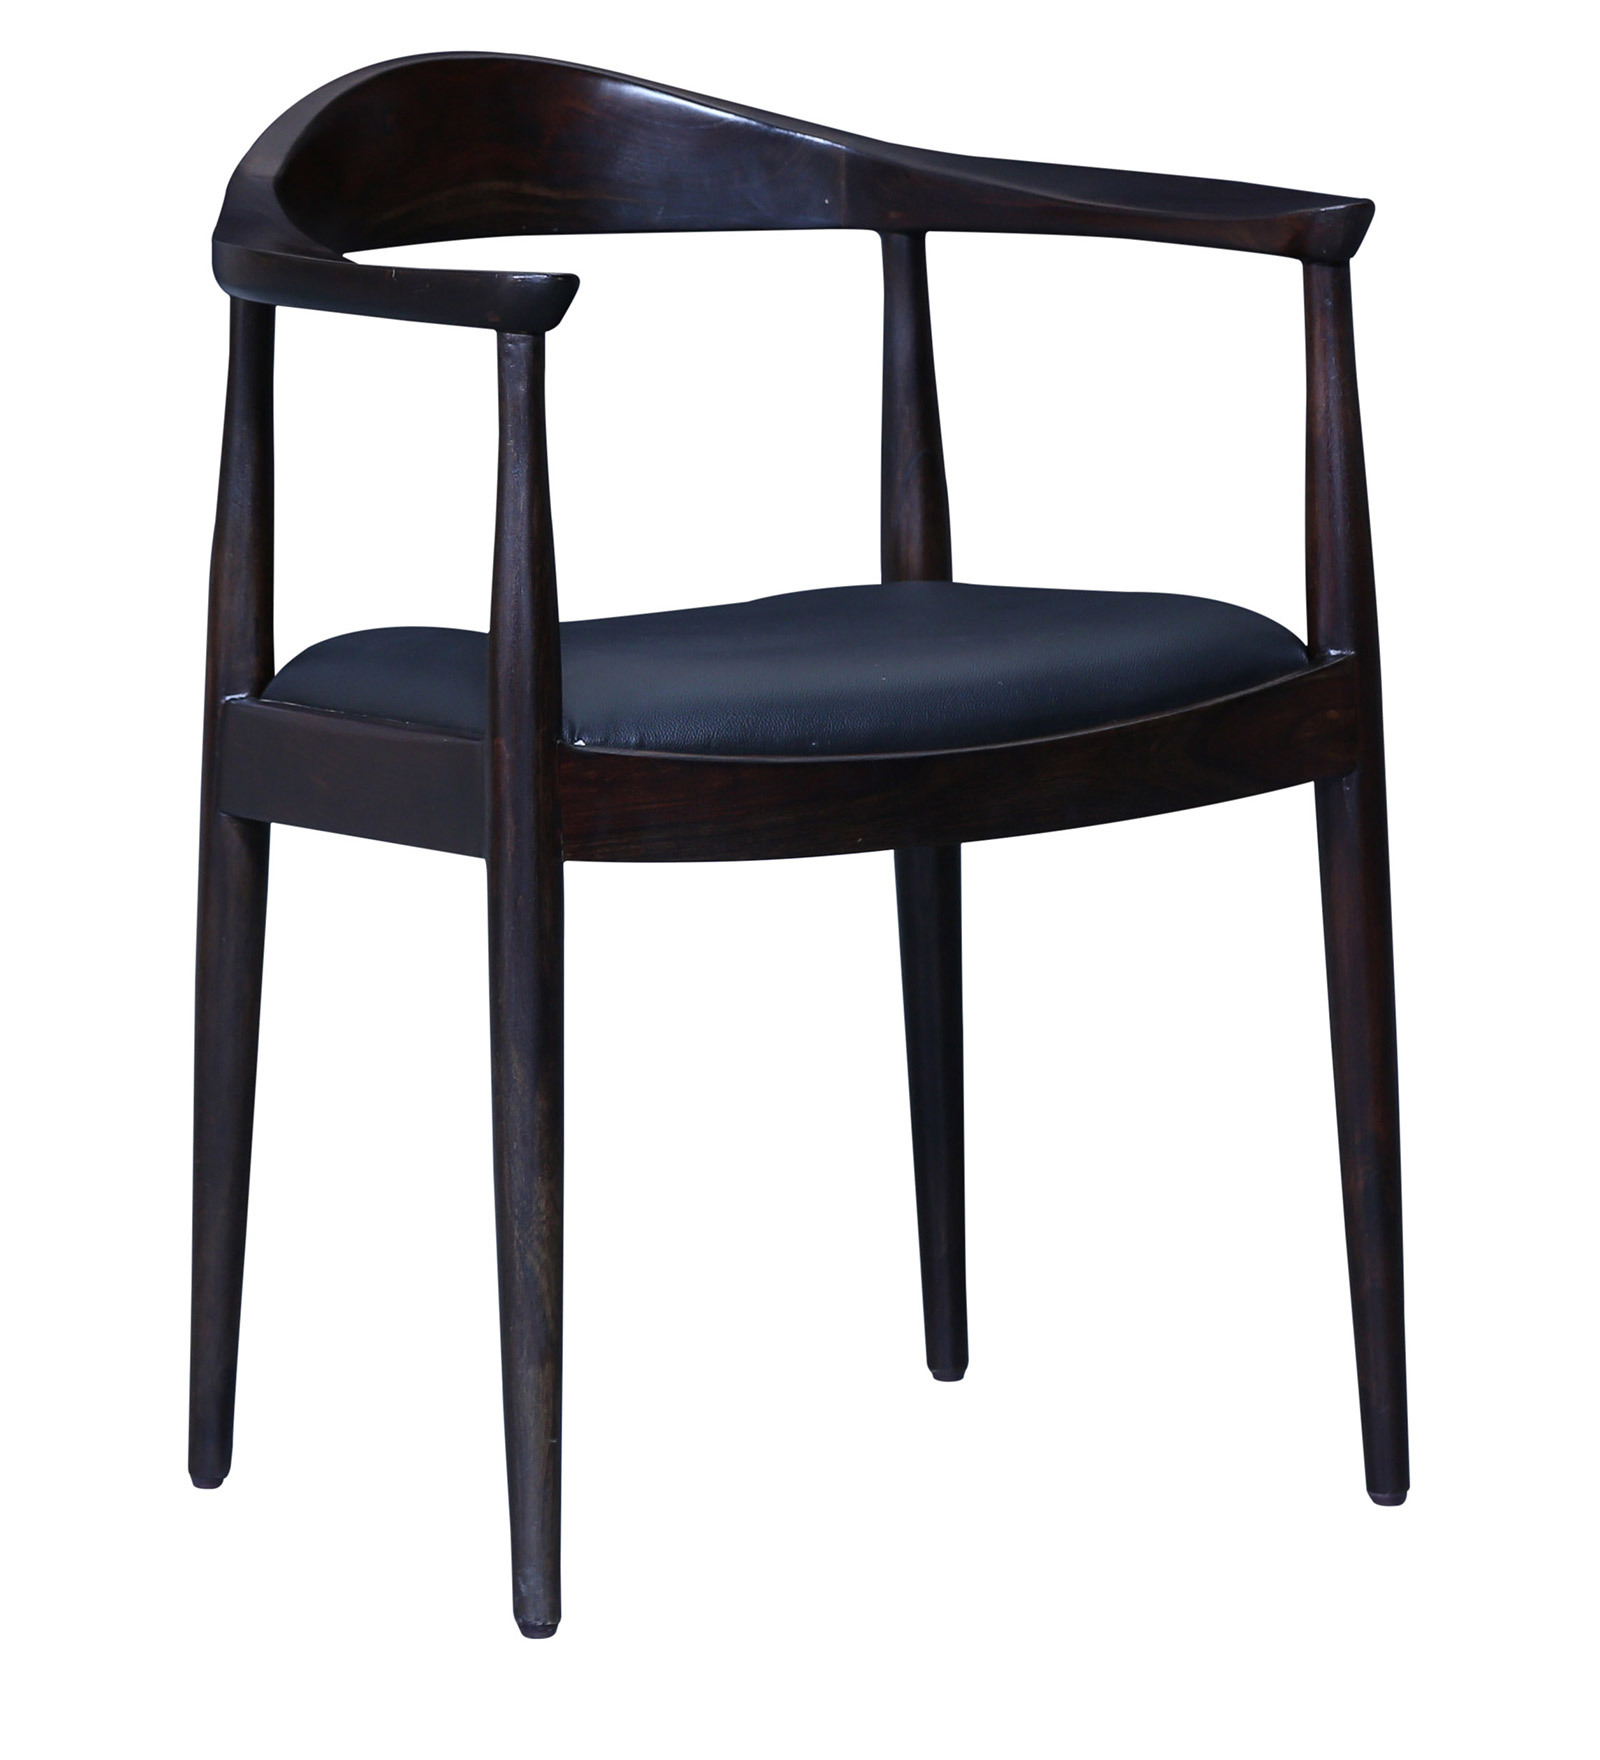Esvelt Arm Chair in Warm Chestnut Finish by Woodsworth: (136, 23, 1482, 1650)
